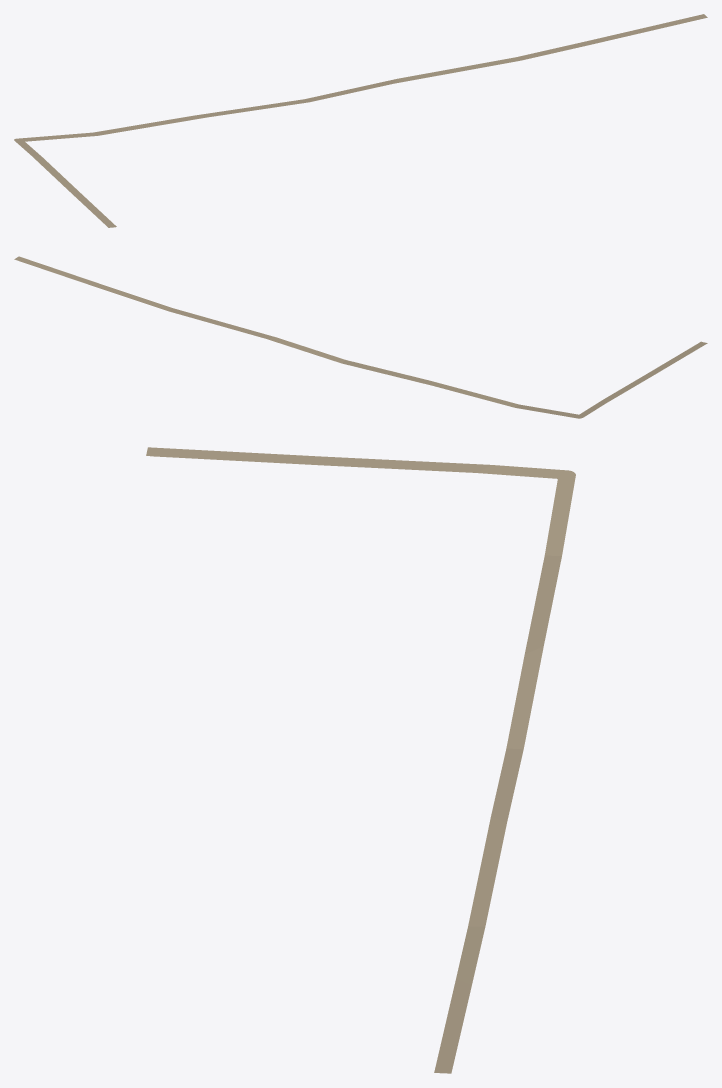
File: farm_18_16_track.glb
The picture shows the model from 3 angles, top to bottom: view 1: azimuth 30°, elevation 25°; view 2: azimuth 150°, elevation 25°; view 3: azimuth 270°, elevation 25°; orthographic projection. The views are drawn at different scales.
Parts seen in each view (by area): view 1: geometry_0; view 2: geometry_0; view 3: geometry_0.
Boxes of the visible parts, x1=… form: geometry_0: x1=14, y1=14, x2=707, y2=227; geometry_0: x1=14, y1=256, x2=707, y2=418; geometry_0: x1=146, y1=447, x2=575, y2=1073.
Size of the model in its own units: 270 by 7.51 by 81.33.
